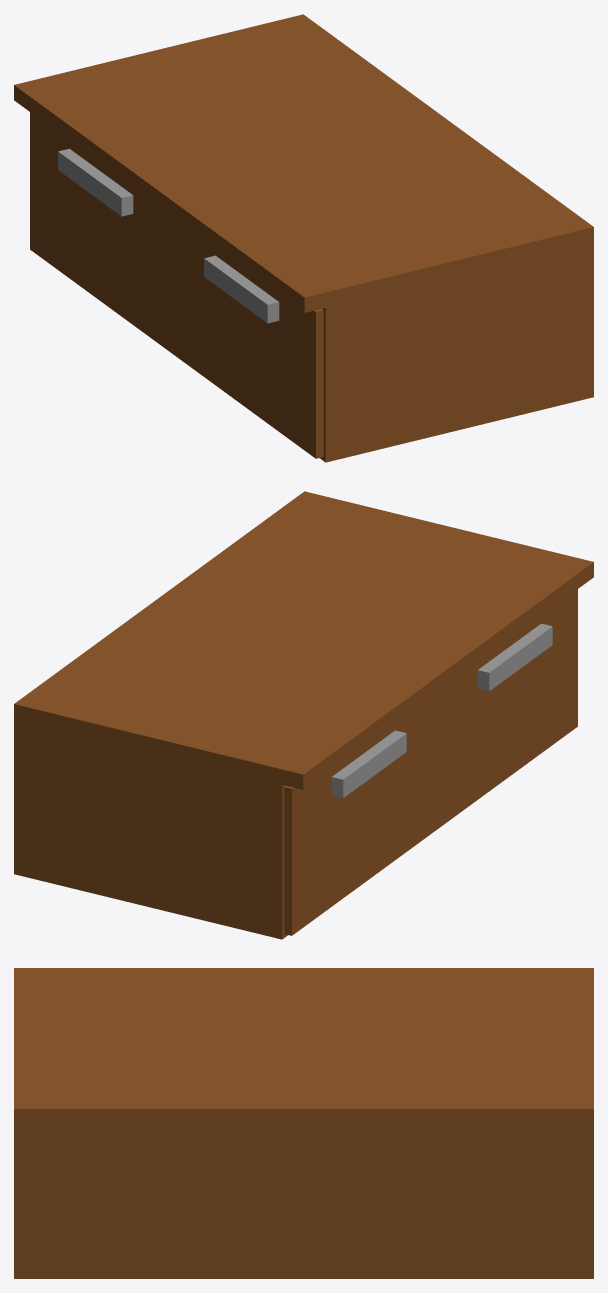
File: Toilet Cabinet.fbx
3 renders of one model, top to bottom at view 1: azimuth 30°, elevation 25°; view 2: azimuth 150°, elevation 25°; view 3: azimuth 270°, elevation 25°, orthographic.
Visible parts, largest first — view 1: Toilet Cabinet; view 2: Toilet Cabinet; view 3: Toilet Cabinet.
Part boxes in pixels (left/top/right/bottom): Toilet Cabinet: left=14, top=14, right=593, bottom=462; Toilet Cabinet: left=14, top=491, right=593, bottom=939; Toilet Cabinet: left=14, top=968, right=593, bottom=1278.
Bounding box in the file's own units: 0.5836 × 1.01 × 0.3279.
